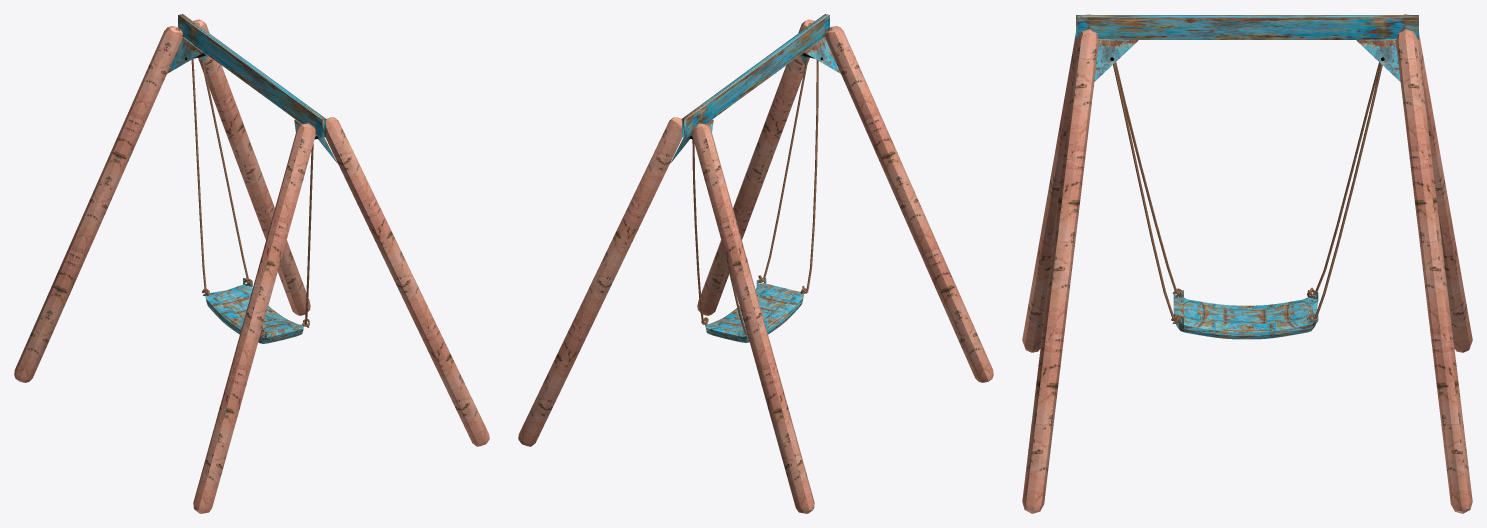
File: columpioHECHO (1).fbx
3 views of the same model, side by side, from view 1: azimuth 30°, elevation 25°; view 2: azimuth 150°, elevation 25°; view 3: azimuth 270°, elevation 25° (orthographic). The views are drawn at different scales.
Parts seen in each view (by area): view 1: Cube.003, Cube, Cube.001, Circle, Cube.004, Cube.002, Cube.006; view 2: Cube.003, Cube, Cube.001, Circle, Cube.005, Cube.006, Cube.004; view 3: Cube.003, Cube, Cube.001, Circle, Cube.006, Cube.004, Cube.002, Cube.005.
Part boxes in pixels (box(x1,y1,x2,y2)): Cube.003: box(14, 19, 489, 513); Cube: box(178, 14, 325, 137); Cube.001: box(205, 278, 304, 343); Circle: box(167, 37, 337, 163); Cube.004: box(200, 56, 251, 285); Cube.002: box(191, 58, 209, 295); Cube.006: box(302, 143, 313, 327); Cube.003: box(518, 19, 993, 513); Cube: box(682, 14, 829, 137); Cube.001: box(705, 278, 803, 342); Circle: box(670, 37, 840, 163); Cube.005: box(800, 60, 818, 293); Cube.006: box(758, 56, 808, 283); Cube.004: box(692, 136, 708, 326); Cube.003: box(1022, 14, 1472, 513); Cube: box(1076, 15, 1418, 39); Cube.001: box(1173, 290, 1318, 339); Circle: box(1094, 39, 1400, 81); Cube.006: box(1113, 63, 1181, 323); Cube.004: box(1307, 63, 1382, 321); Cube.002: box(1307, 62, 1380, 297); Cube.005: box(1115, 62, 1182, 297).
Size of the model in its own units: 381 by 430 by 423.
8 materials, 7 textured.
